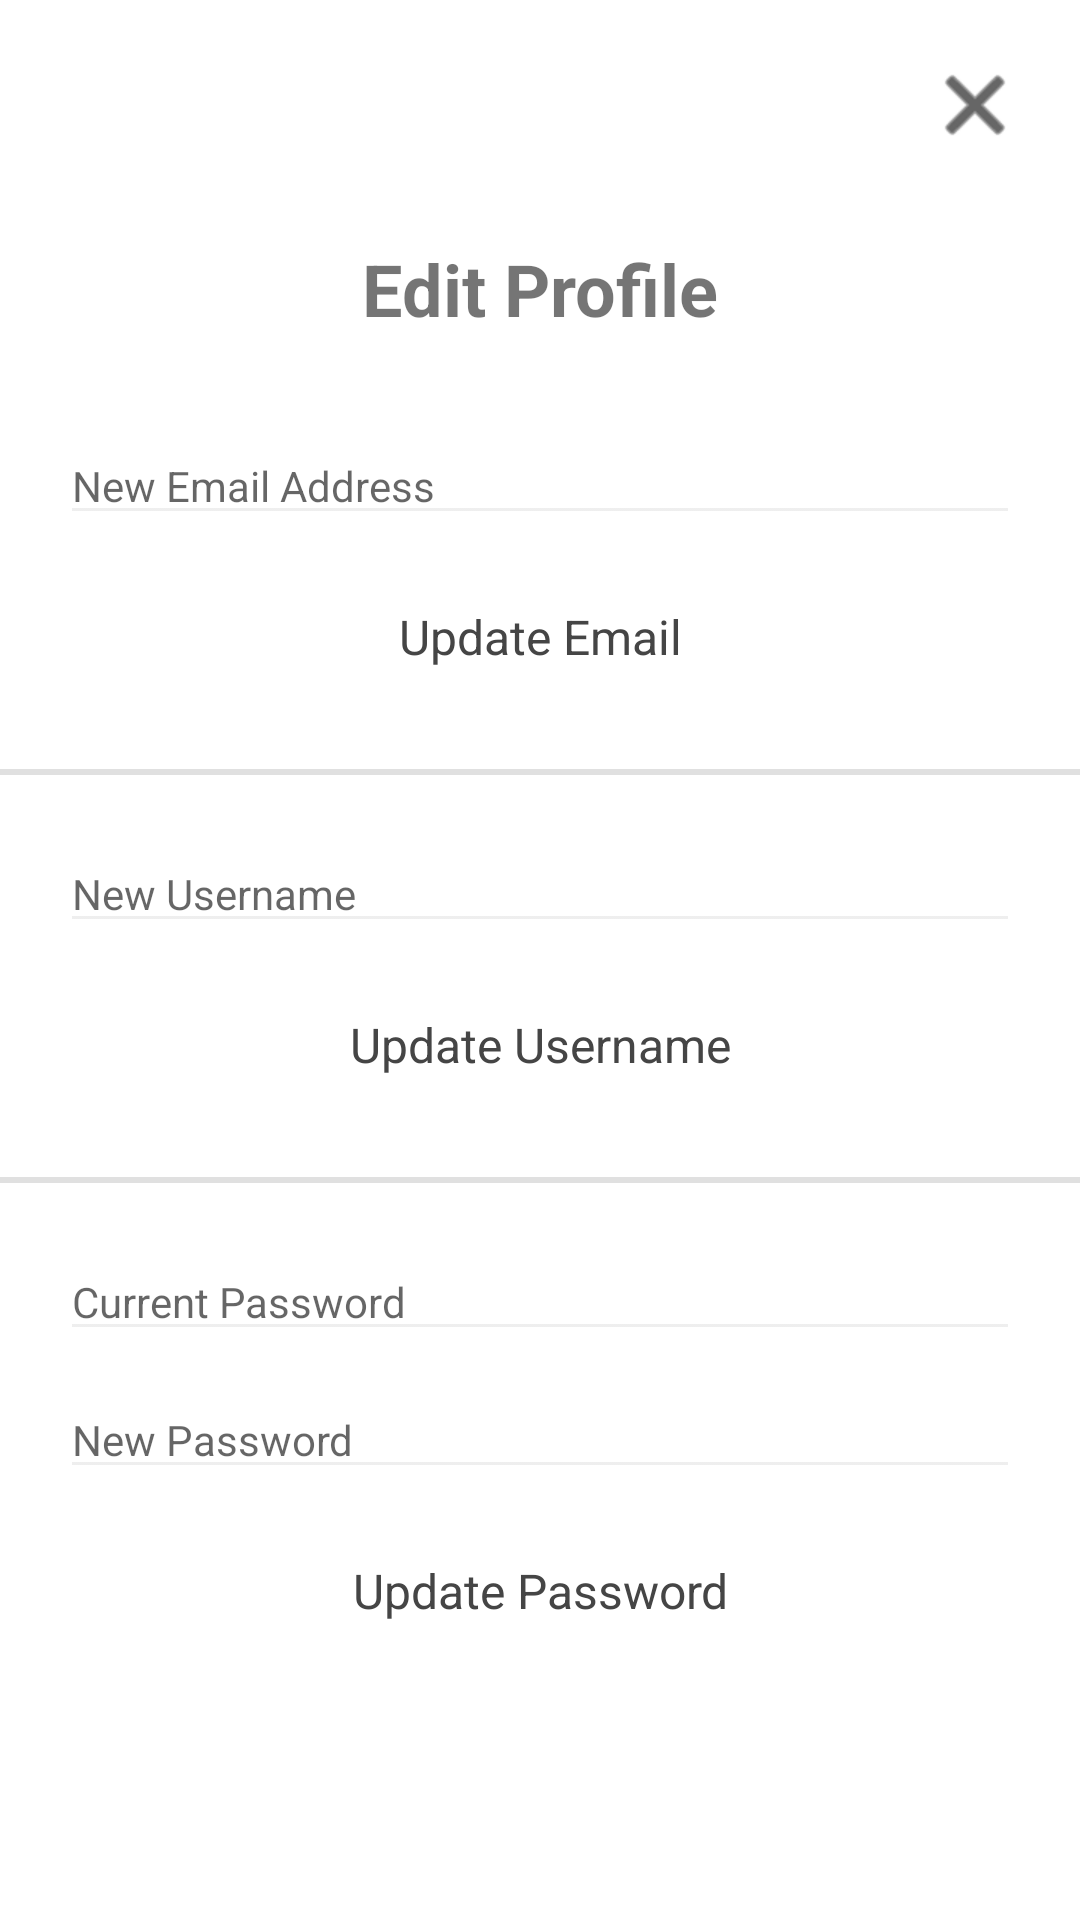

Locate icon controls on the screen. Image size 1080px x 1920px, boxes as (x1, y1, x2, y2).
close clear cancel: (945, 75, 1005, 135)
